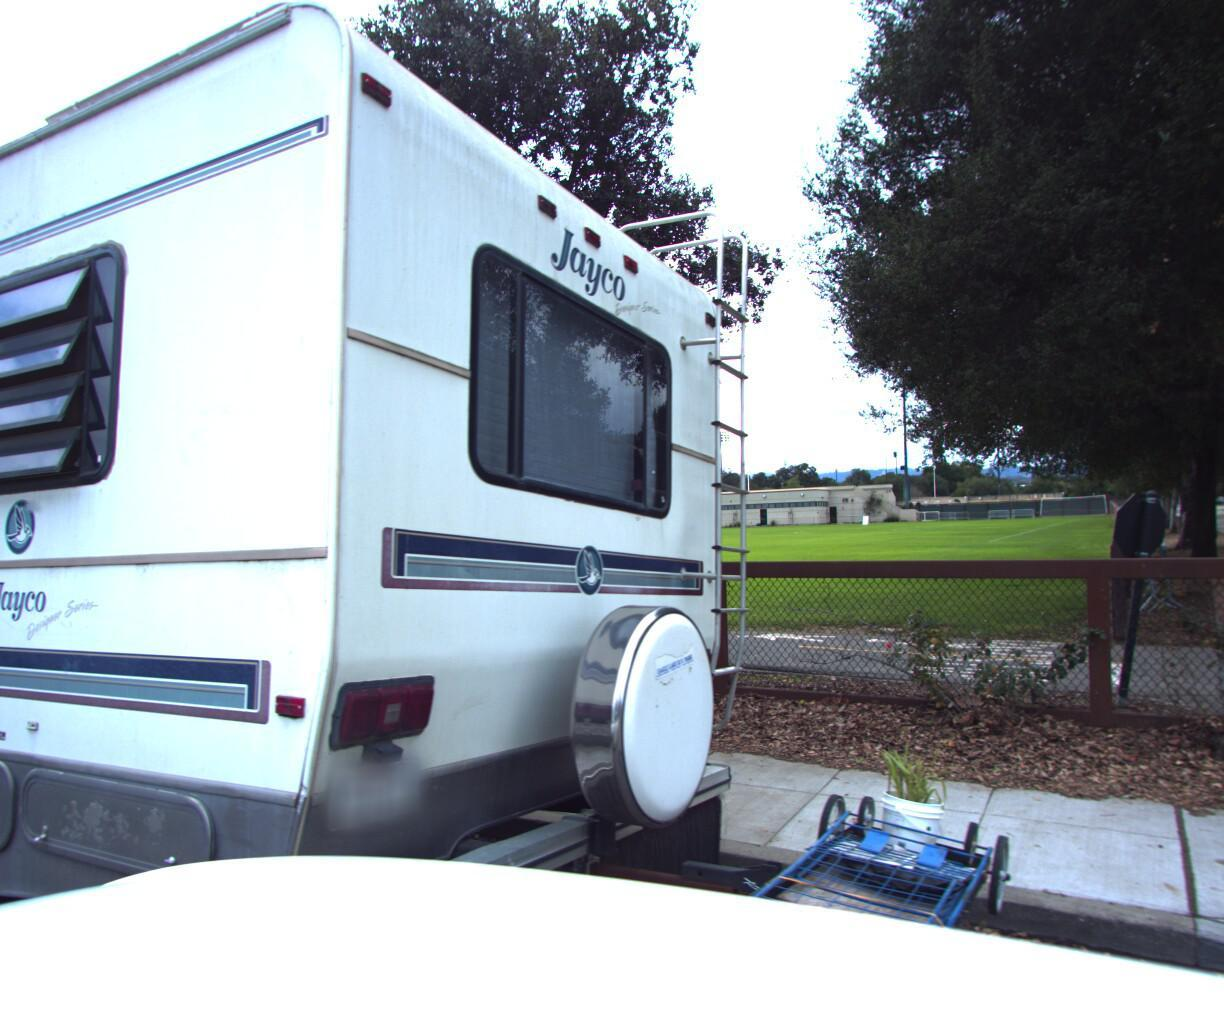other_vehicle: (0, 0, 1053, 1024)
